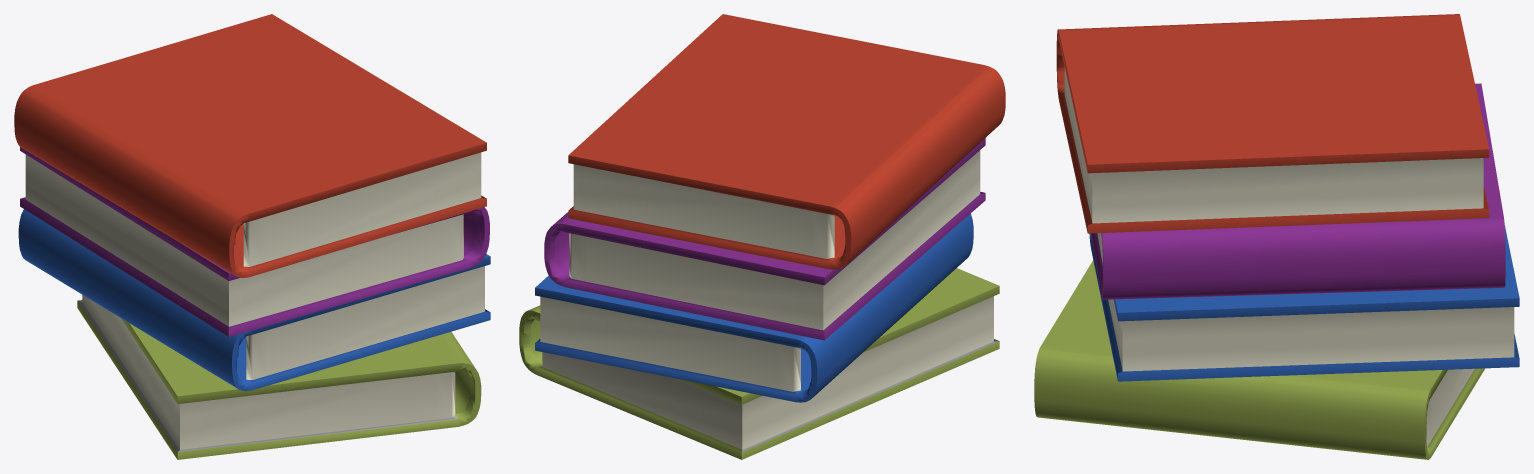
Rendered from books textured.fbx.
3 views of the same model, side by side, from view 1: azimuth 30°, elevation 25°; view 2: azimuth 150°, elevation 25°; view 3: azimuth 270°, elevation 25° (orthographic). The views are drawn at different scales.
Visible parts, largest first — view 1: pasted__pCube1group2, pCube1, pasted__pCube1group1, pasted__pCube1group; view 2: pasted__pCube1group2, pasted__pCube1group1, pCube1, pasted__pCube1group; view 3: pasted__pCube1group2, pasted__pCube1group, pCube1, pasted__pCube1group1.
Part boxes in pixels (x1,y1,x2,y2): pasted__pCube1group2: (14,14,486,277); pCube1: (77,295,481,459); pasted__pCube1group1: (20,147,489,336); pasted__pCube1group: (18,209,490,391); pasted__pCube1group2: (568,14,1005,269); pasted__pCube1group1: (544,138,985,340); pCube1: (519,268,999,459); pasted__pCube1group: (535,213,973,402); pasted__pCube1group2: (1056,14,1489,233); pasted__pCube1group: (1089,225,1519,381); pCube1: (1034,260,1485,459); pasted__pCube1group1: (1091,83,1505,299).
Bounding box in the file's own units: 6.57 × 4.57 × 7.27.
